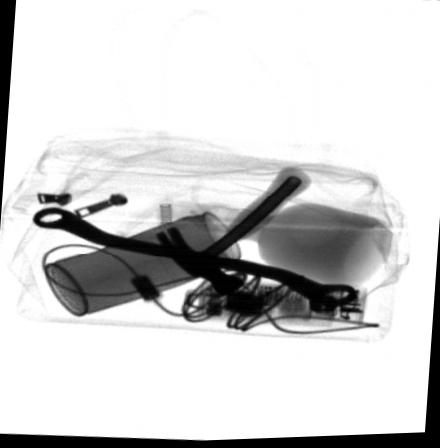Hammer: (154, 167, 311, 296)
Wrench: (32, 205, 358, 305)
